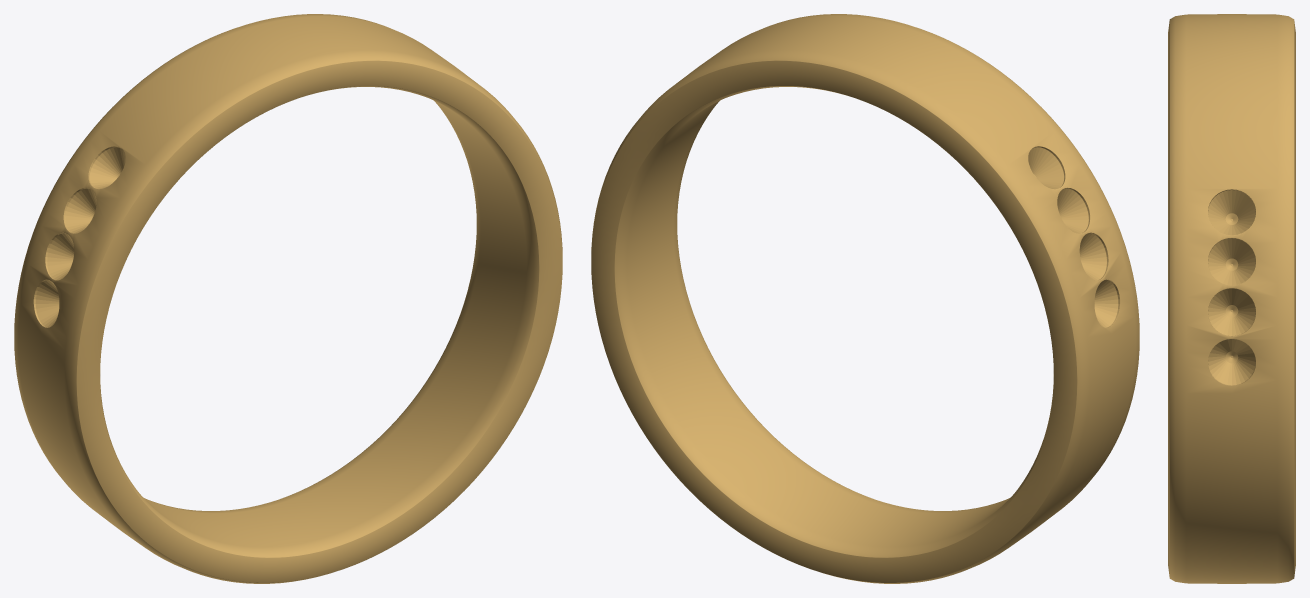
File: wide-bezel-accents-head.glb
3 renders of one model, left to right at view 1: azimuth 30°, elevation 25°; view 2: azimuth 150°, elevation 25°; view 3: azimuth 270°, elevation 25°, orthographic.
Parts seen in each view (by area): view 1: Band; view 2: Band; view 3: Band.
Boxes of the visible parts, bbox=[...] form: Band: bbox=[14, 14, 562, 583]; Band: bbox=[591, 14, 1139, 583]; Band: bbox=[1168, 14, 1295, 583].
Bounding box in the file's own units: 19.6 × 19.6 × 4.4.
